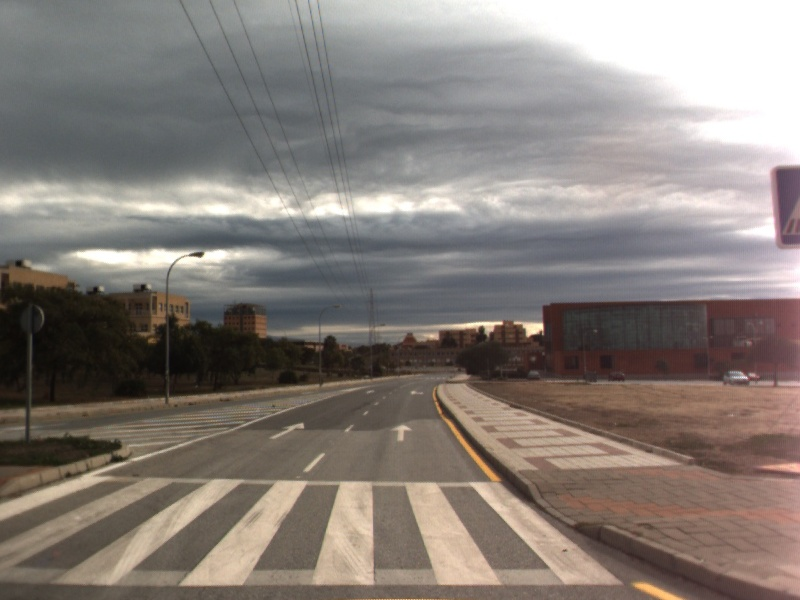STRAIGHT: (267, 420, 306, 441), (388, 422, 415, 443)
